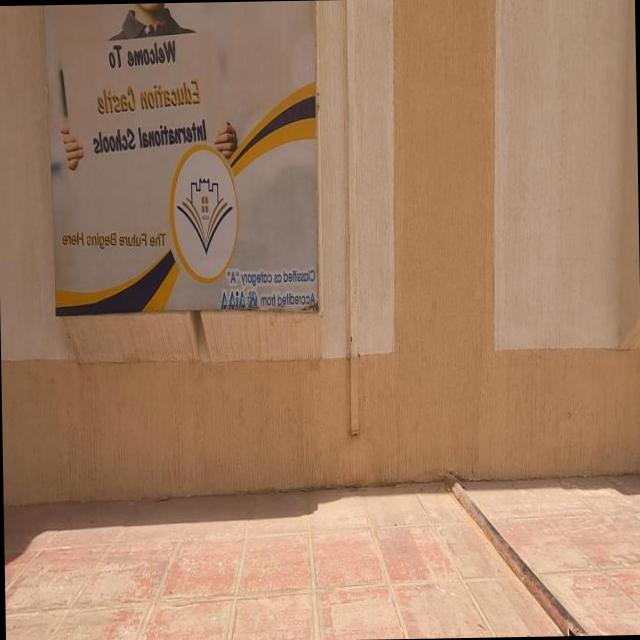debris: (0, 0, 479, 496)
